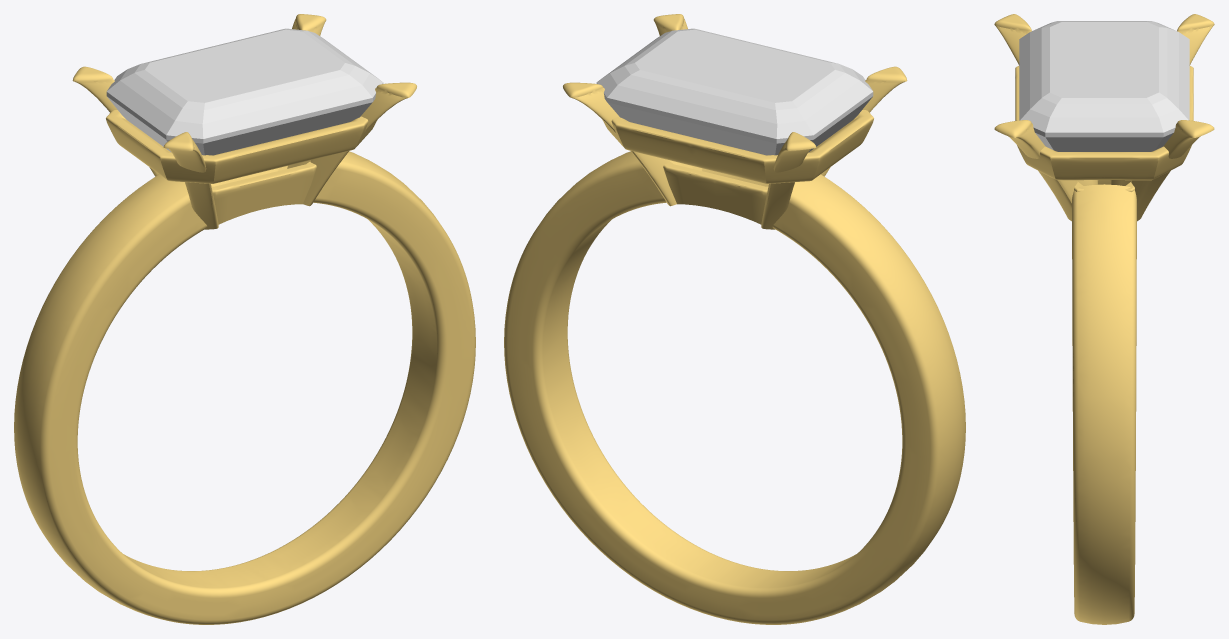
Rendered from SophiaV4ygENG_blender.glb.
3 views of the same model, side by side, from view 1: azimuth 30°, elevation 25°; view 2: azimuth 150°, elevation 25°; view 3: azimuth 270°, elevation 25° (orthographic).
Parts seen in each view (by area): view 1: V4 Sophia YG for 3d model, V4 Sophia dia for 3d model; view 2: V4 Sophia YG for 3d model, V4 Sophia dia for 3d model; view 3: V4 Sophia YG for 3d model, V4 Sophia dia for 3d model.
Boxes of the visible parts, left/top/right/bottom form: V4 Sophia YG for 3d model: left=14, top=14, right=475, bottom=624; V4 Sophia dia for 3d model: left=106, top=28, right=383, bottom=155; V4 Sophia YG for 3d model: left=504, top=14, right=965, bottom=624; V4 Sophia dia for 3d model: left=596, top=28, right=873, bottom=155; V4 Sophia YG for 3d model: left=994, top=14, right=1214, bottom=624; V4 Sophia dia for 3d model: left=1019, top=21, right=1189, bottom=151.
Bounding box in the file's own units: 19.5 × 23.03 × 8.49.
